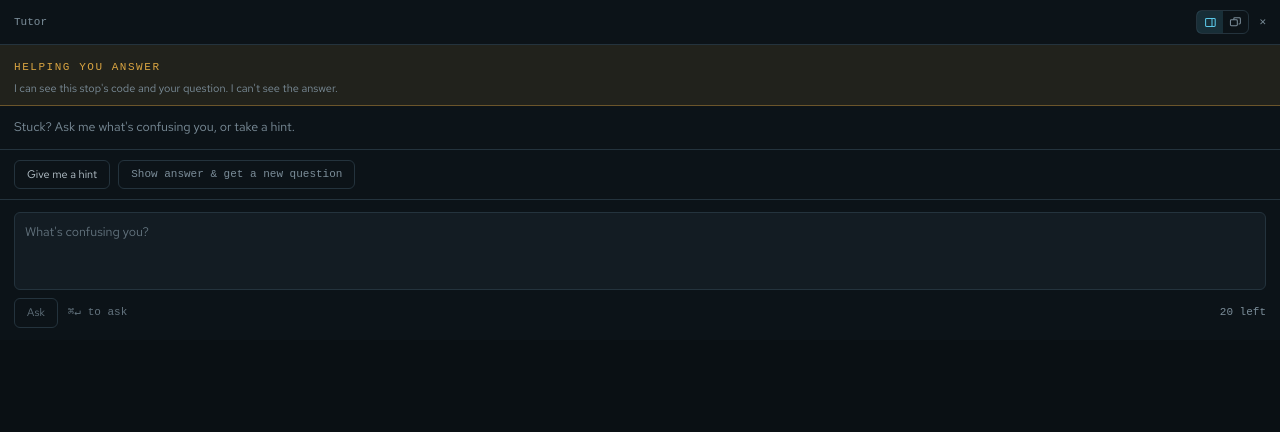
Test: the hint ladder › a hint is requested and its rung is shown
This screenshot has width=1280, height=432.
What coordinates should you click on to do the following:
click the button "Give me a hint"
I would click on:
 (62, 174)
Its box is [14,160,110,189].
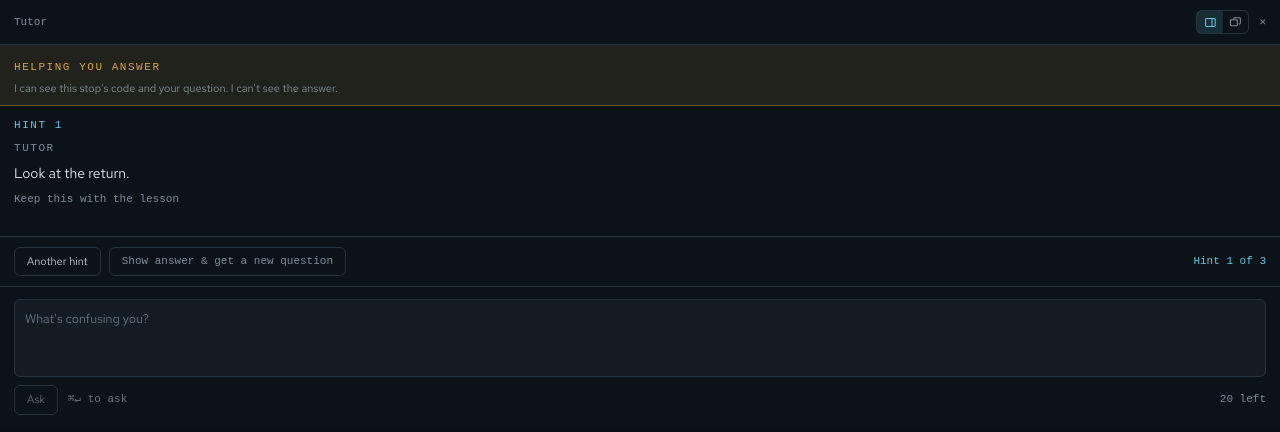
Expected: the text "Hint 1 of 3" is shown, [1193,254,1266,269]
